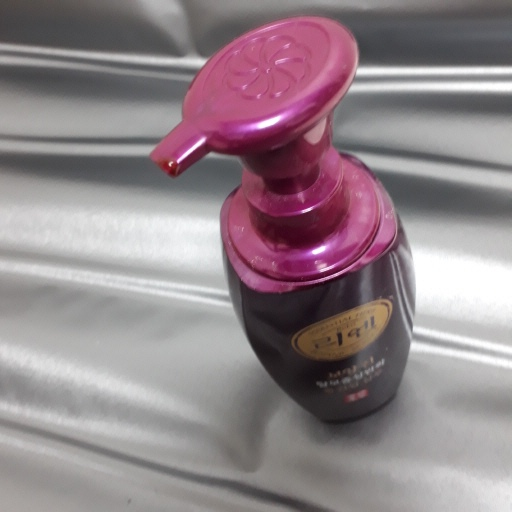Plastic_3: (155, 14, 418, 428)
